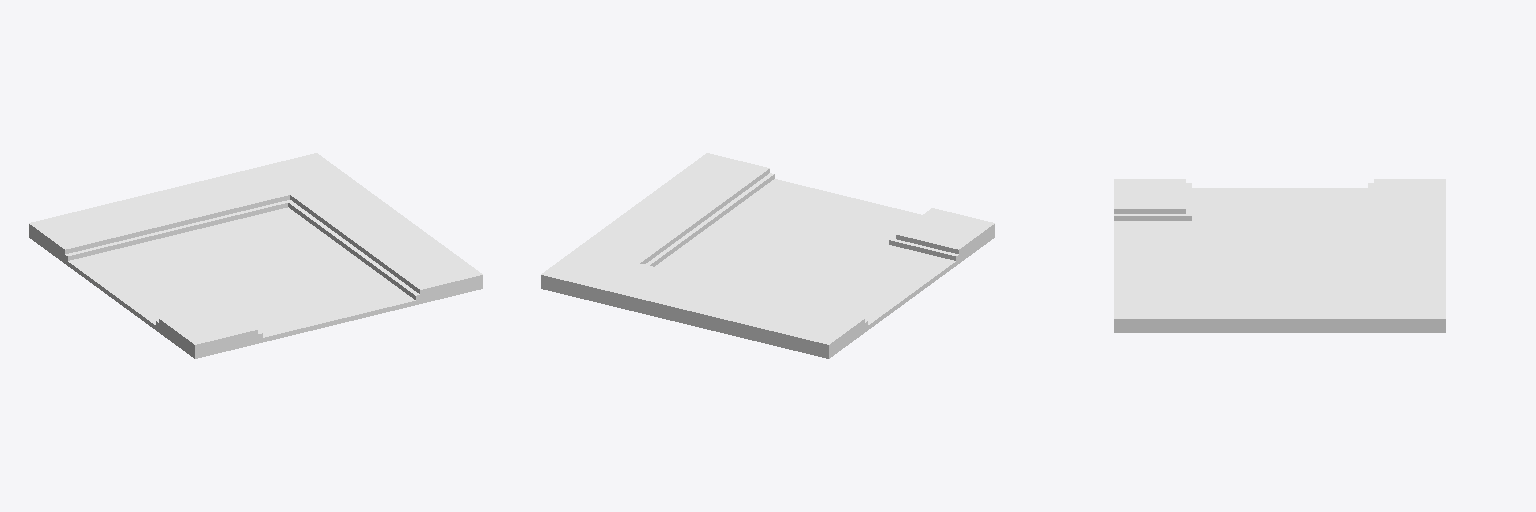
Rendered from road_intersection_turn.obj.
3 views of the same model, side by side, from view 1: azimuth 30°, elevation 25°; view 2: azimuth 150°, elevation 25°; view 3: azimuth 270°, elevation 25° (orthographic).
Parts seen in each view (by area): view 1: object 1; view 2: object 1; view 3: object 1.
Boxes of the visible parts, box(x1,y1,x2,y2) form: object 1: box(29, 153, 482, 358); object 1: box(541, 153, 994, 358); object 1: box(1114, 179, 1445, 332).
Bounding box in the file's own units: 6.4 × 0.3 × 6.4.